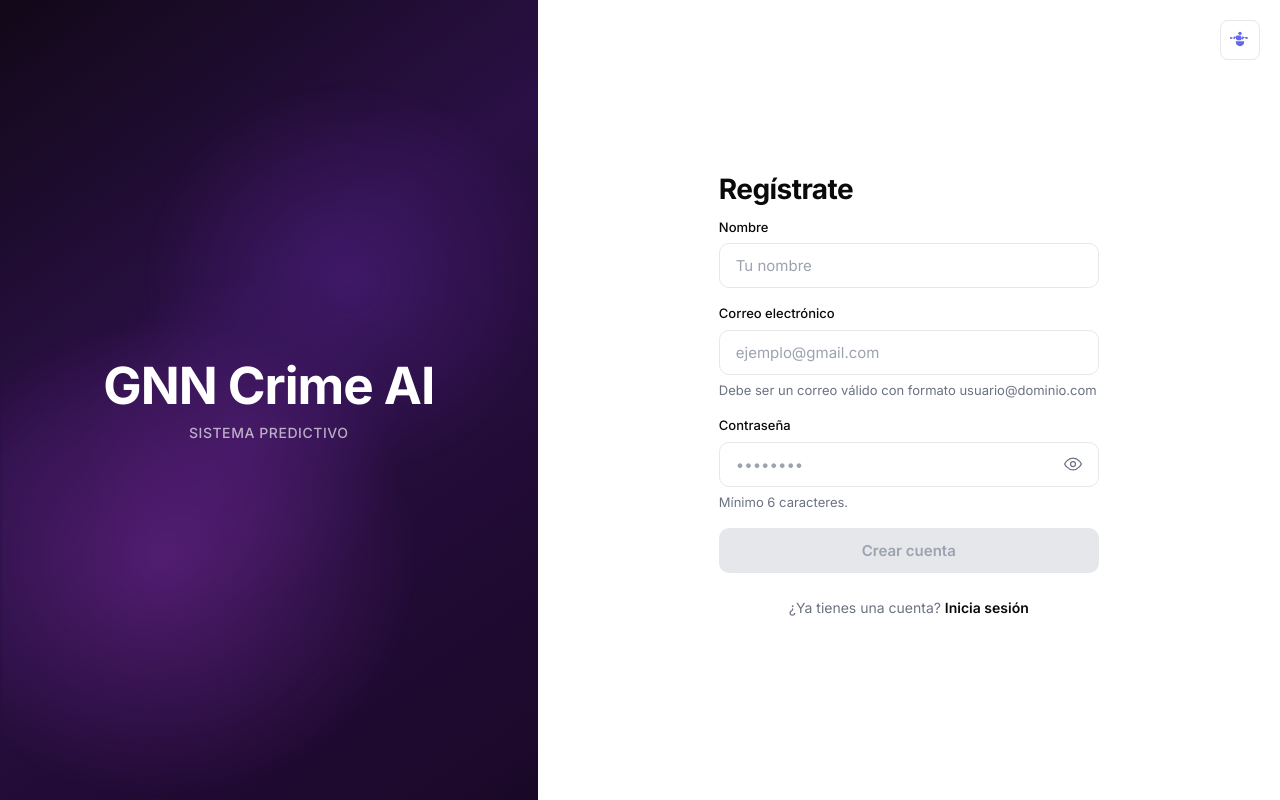
it: RegisterPage › muestra error del backend al fallar el registro
Type "Juan Pérez" into the field with test id "register-name-input" at [909, 266], box [719,243,1099,288]
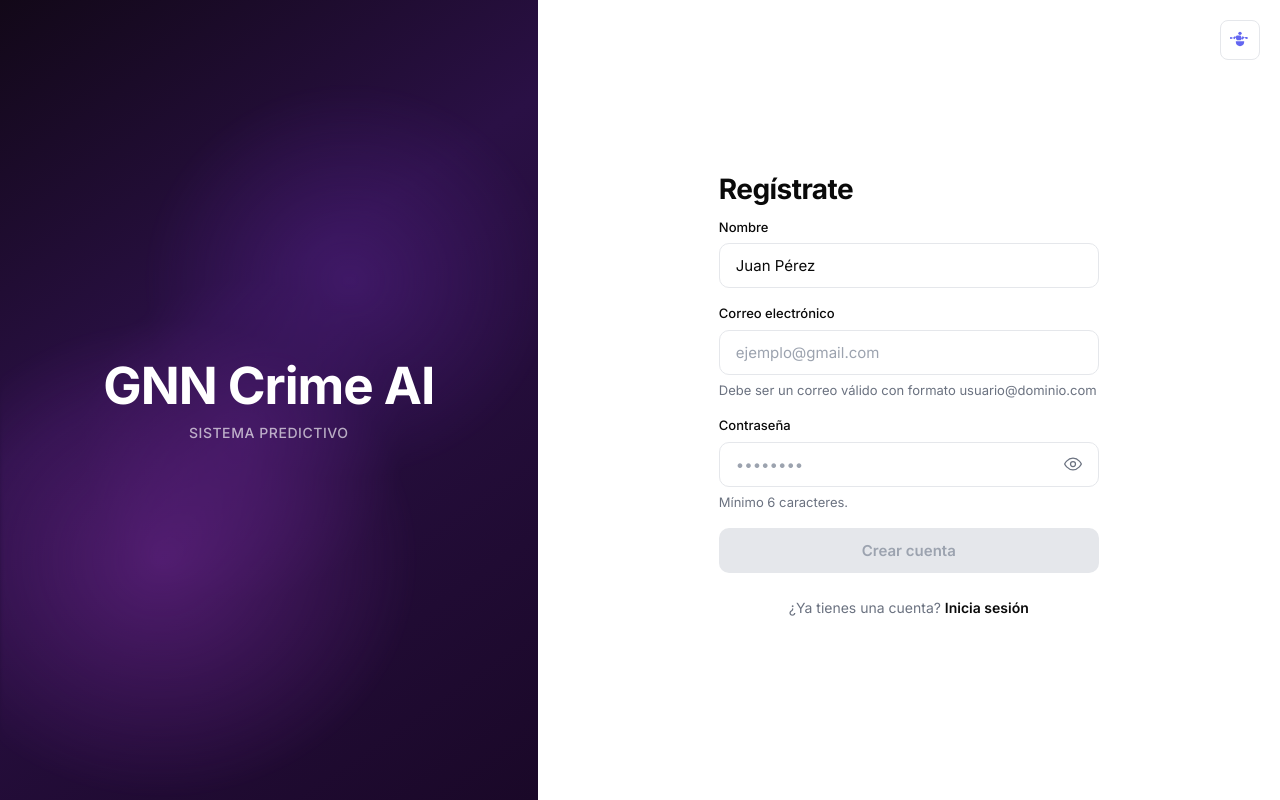
Type "juan@pnp.gob.pe" into the field with test id "register-email-input" at [909, 352], box [719,330,1099,375]
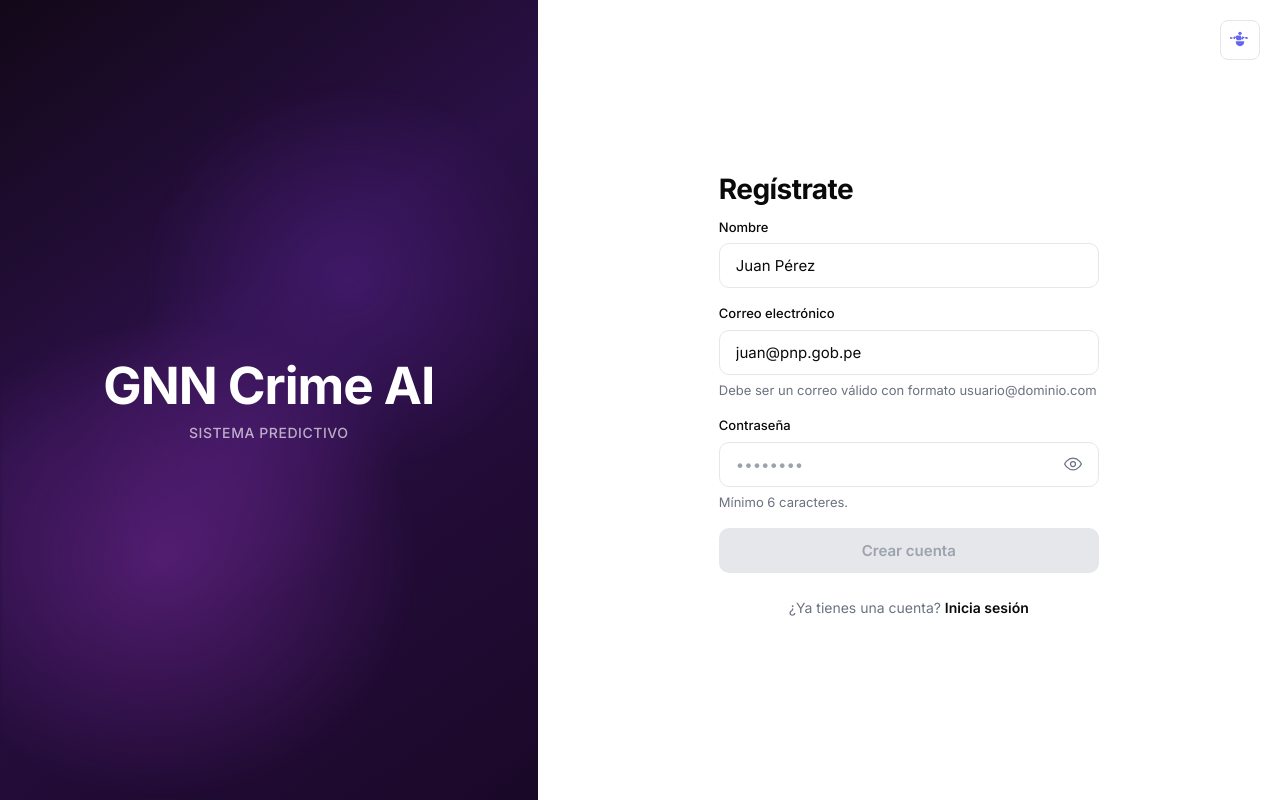
Type "clave123" into the password field with test id "register-password-input" at [909, 464], box [719,442,1099,487]
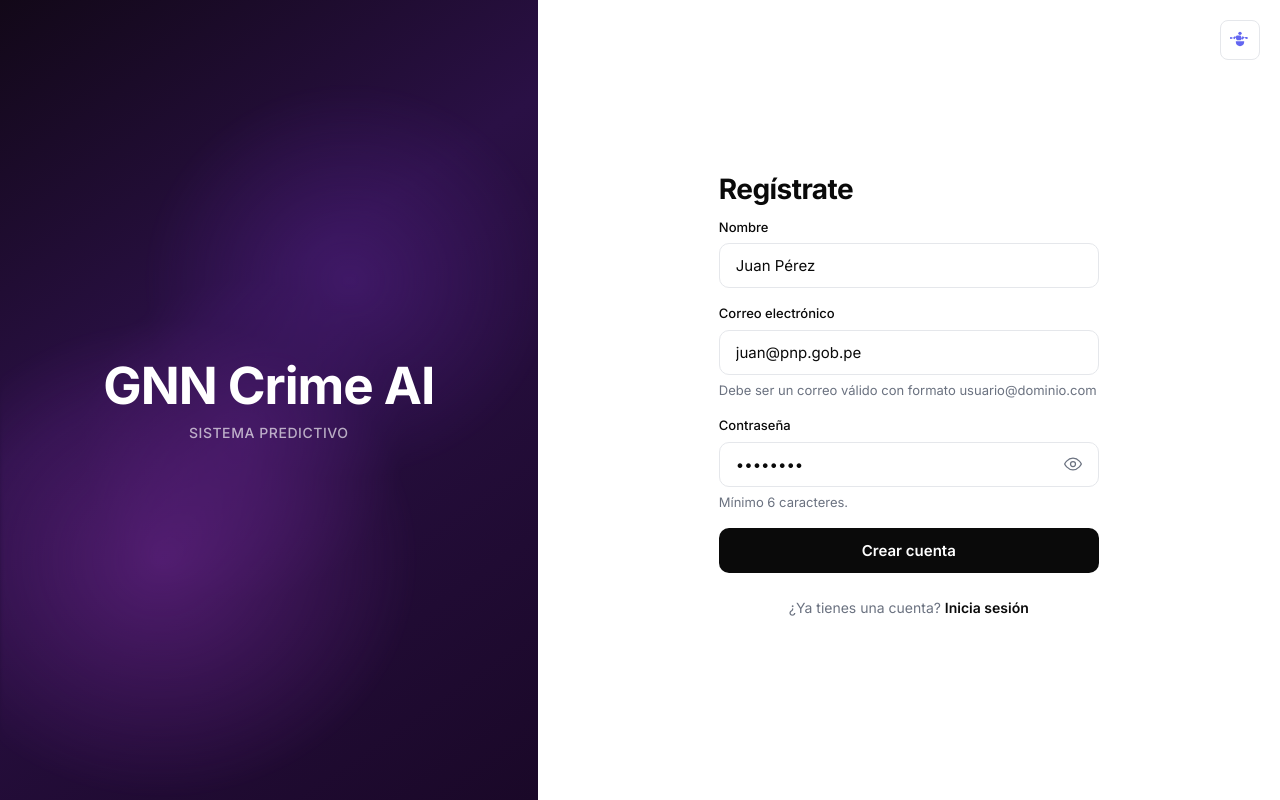
Click the button with test id "register-submit-button" at [909, 551], box [719,528,1099,573]
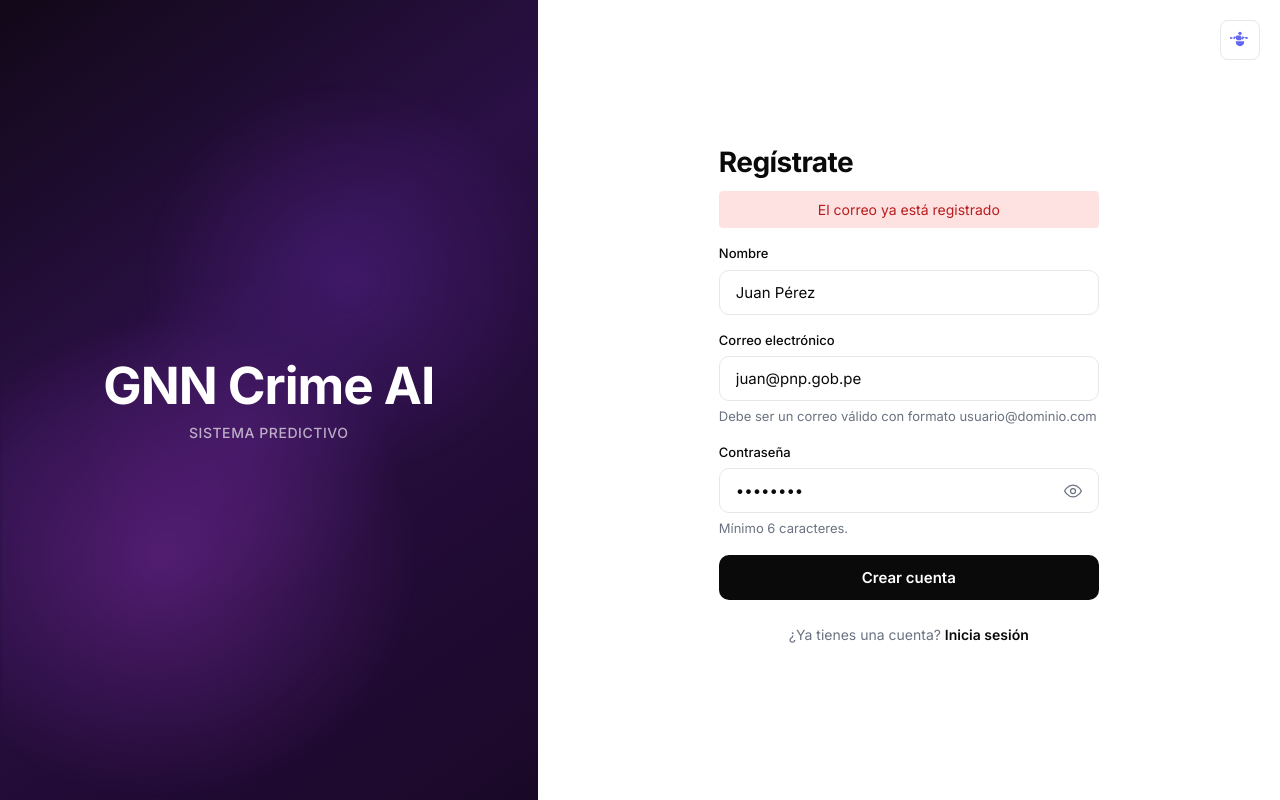
Check: the message reads "El correo ya está registrado", box [818,201,1000,218]
